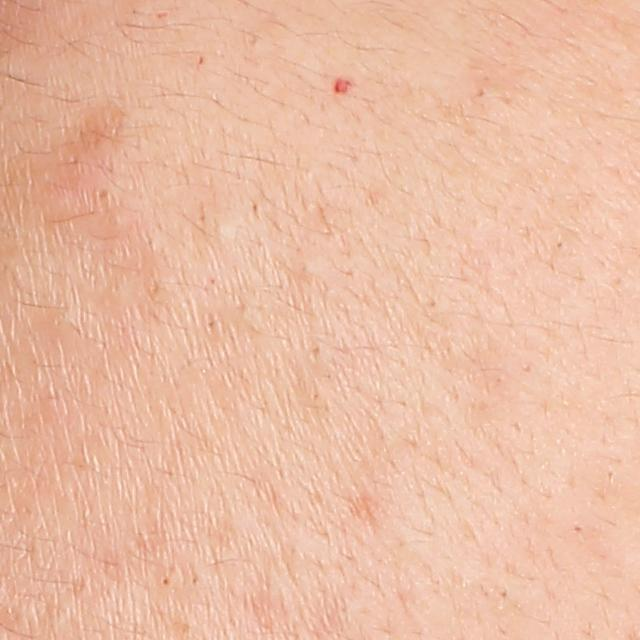comedo: (202, 214, 239, 257), (290, 257, 325, 284), (92, 183, 112, 203)
